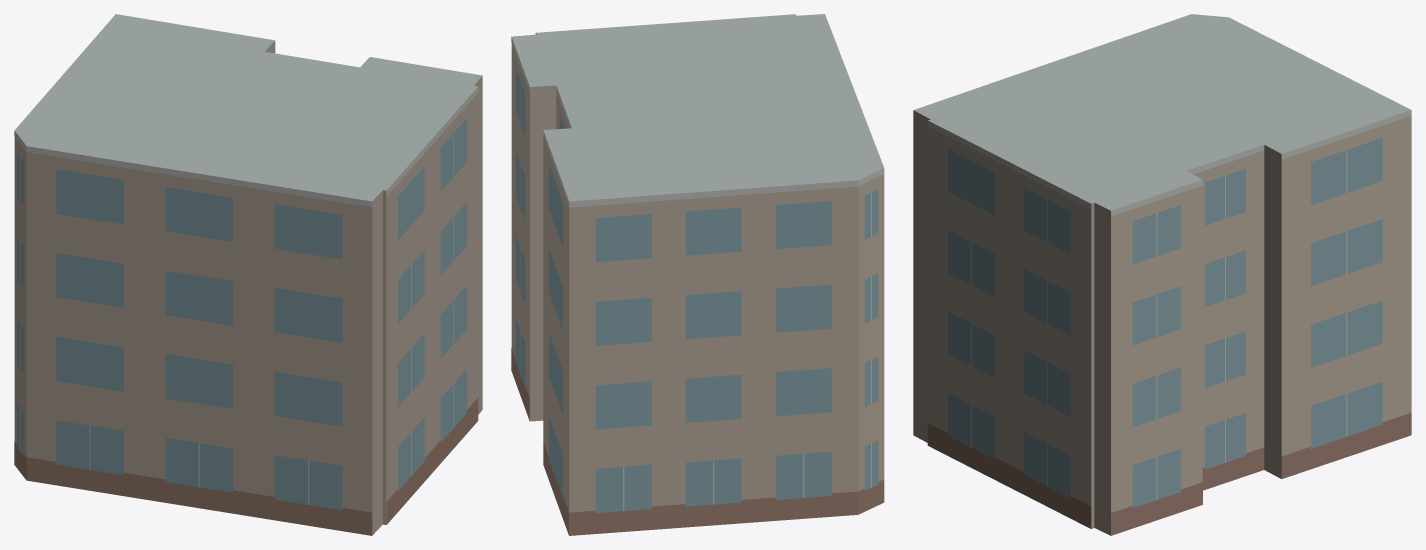
File: survey-upis-32695815.glb
3 views of the same model, side by side, from view 1: azimuth 30°, elevation 25°; view 2: azimuth 150°, elevation 25°; view 3: azimuth 270°, elevation 25° (orthographic). The views are drawn at different scales.
Parts seen in each view (by area): view 1: survey-upis-32695815.tmp; view 2: survey-upis-32695815.tmp; view 3: survey-upis-32695815.tmp.
Part boxes in pixels (bbox=[...]): survey-upis-32695815.tmp: bbox=[14, 14, 482, 535]; survey-upis-32695815.tmp: bbox=[511, 14, 884, 535]; survey-upis-32695815.tmp: bbox=[913, 14, 1411, 535].
Bounding box in the file's own units: 17.51 × 13.5 × 18.75.
